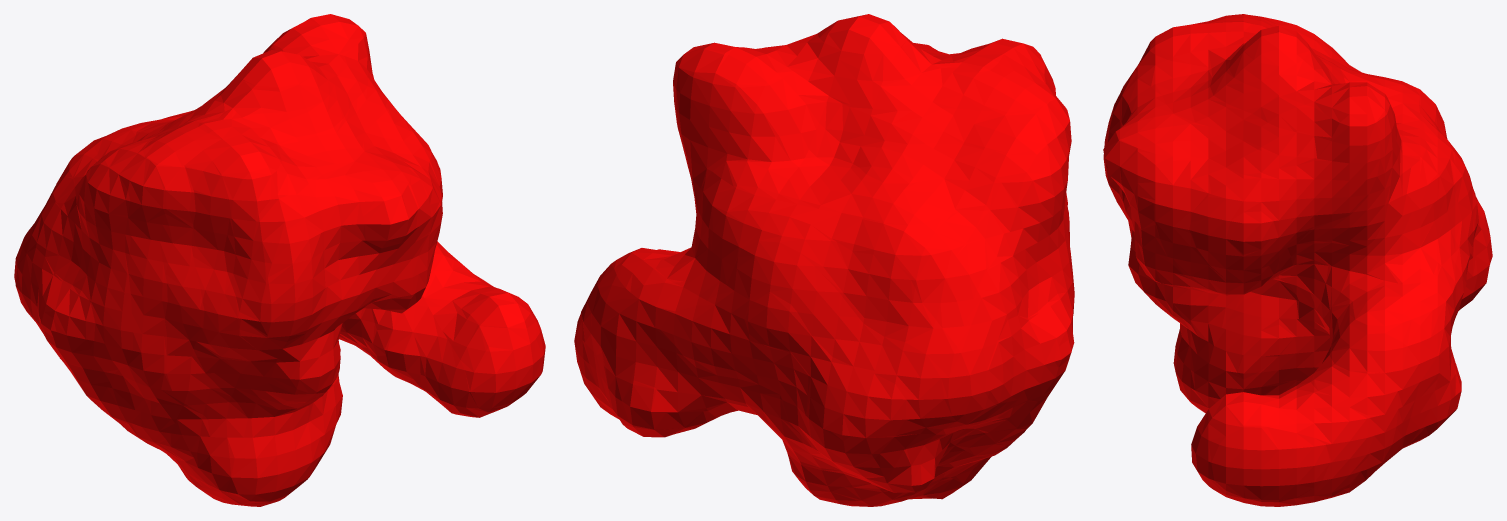
File: ispD_coarse.dae
3 views of the same model, side by side, from view 1: azimuth 30°, elevation 25°; view 2: azimuth 150°, elevation 25°; view 3: azimuth 270°, elevation 25° (orthographic). The views are drawn at different scales.
Visible parts, largest first — view 1: ispD; view 2: ispD; view 3: ispD.
Boxes of the visible parts, x1,y1,x2,y2 form: ispD: (14,14,545,506); ispD: (574,14,1074,506); ispD: (1103,14,1492,506).
Bounding box in the file's own units: 56.83 × 50.81 × 43.51.
